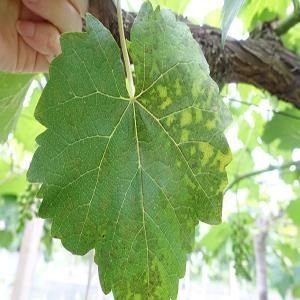Folha: (26, 1, 234, 298)
Fungo: (214, 143, 232, 177), (177, 130, 208, 146), (187, 76, 208, 98), (156, 84, 172, 110), (209, 104, 222, 136), (193, 98, 204, 128), (163, 109, 178, 128), (174, 69, 183, 97), (181, 108, 191, 125)
